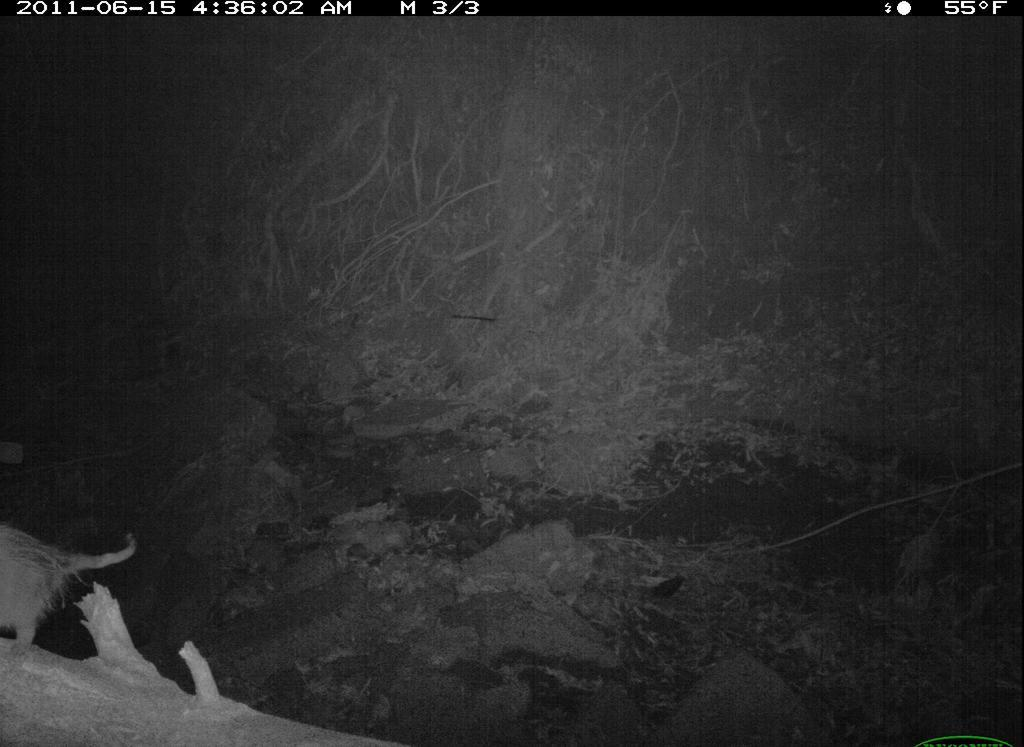opossum: (4, 513, 157, 648)
